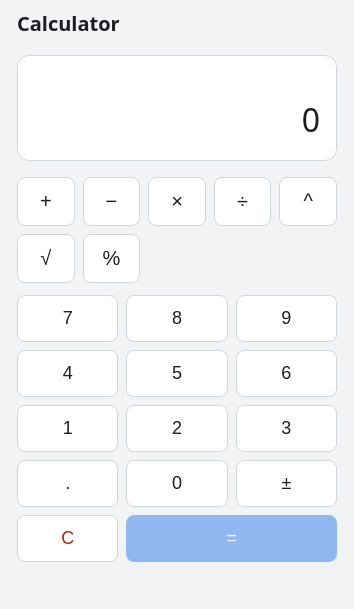
Test: App › renders a 422 as the message for its code and never the server prose
The image size is (354, 609).
Click the button "1" at (68, 428), box x1=17 y1=405 x2=118 y2=452
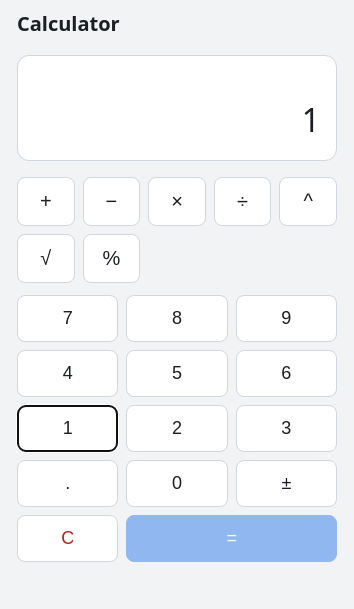
Click the button named "Division" at (243, 202), box x1=214 y1=177 x2=271 y2=226
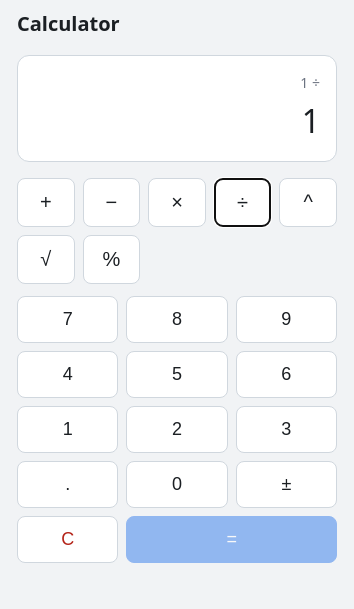
Click the button "0" at (177, 484), box x1=126 y1=461 x2=228 y2=508
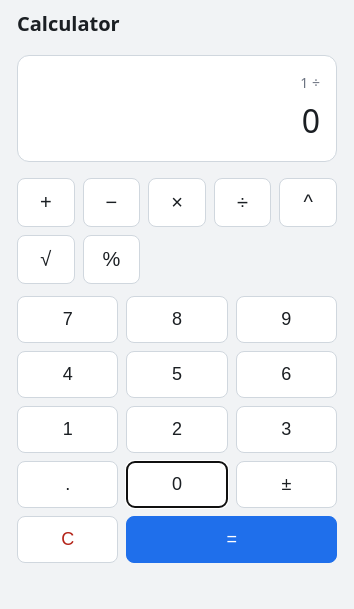
Click the button named "Equals" at (232, 540), box x1=126 y1=516 x2=337 y2=563
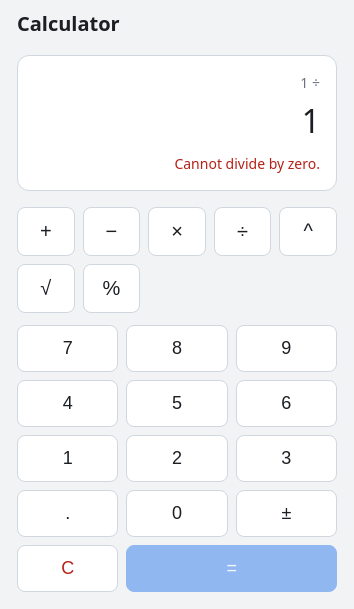
Check: the message reads "Cannot divide by zero.", box x1=174 y1=154 x2=320 y2=173
